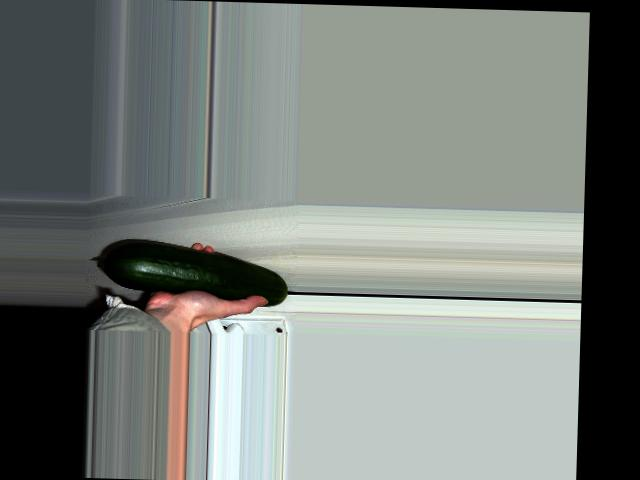cucumber: (96, 237, 289, 306)
